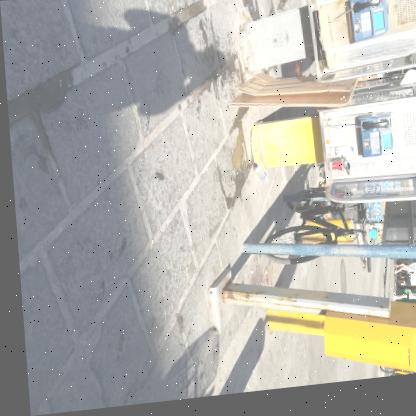Paper: (236, 77, 351, 101), (318, 15, 335, 77)
Plastic: (251, 168, 266, 190), (398, 79, 416, 93), (328, 152, 350, 163), (327, 165, 341, 178), (340, 163, 347, 183)
Waste: (147, 242, 150, 251), (349, 154, 351, 159), (251, 169, 254, 172), (324, 146, 326, 150)
